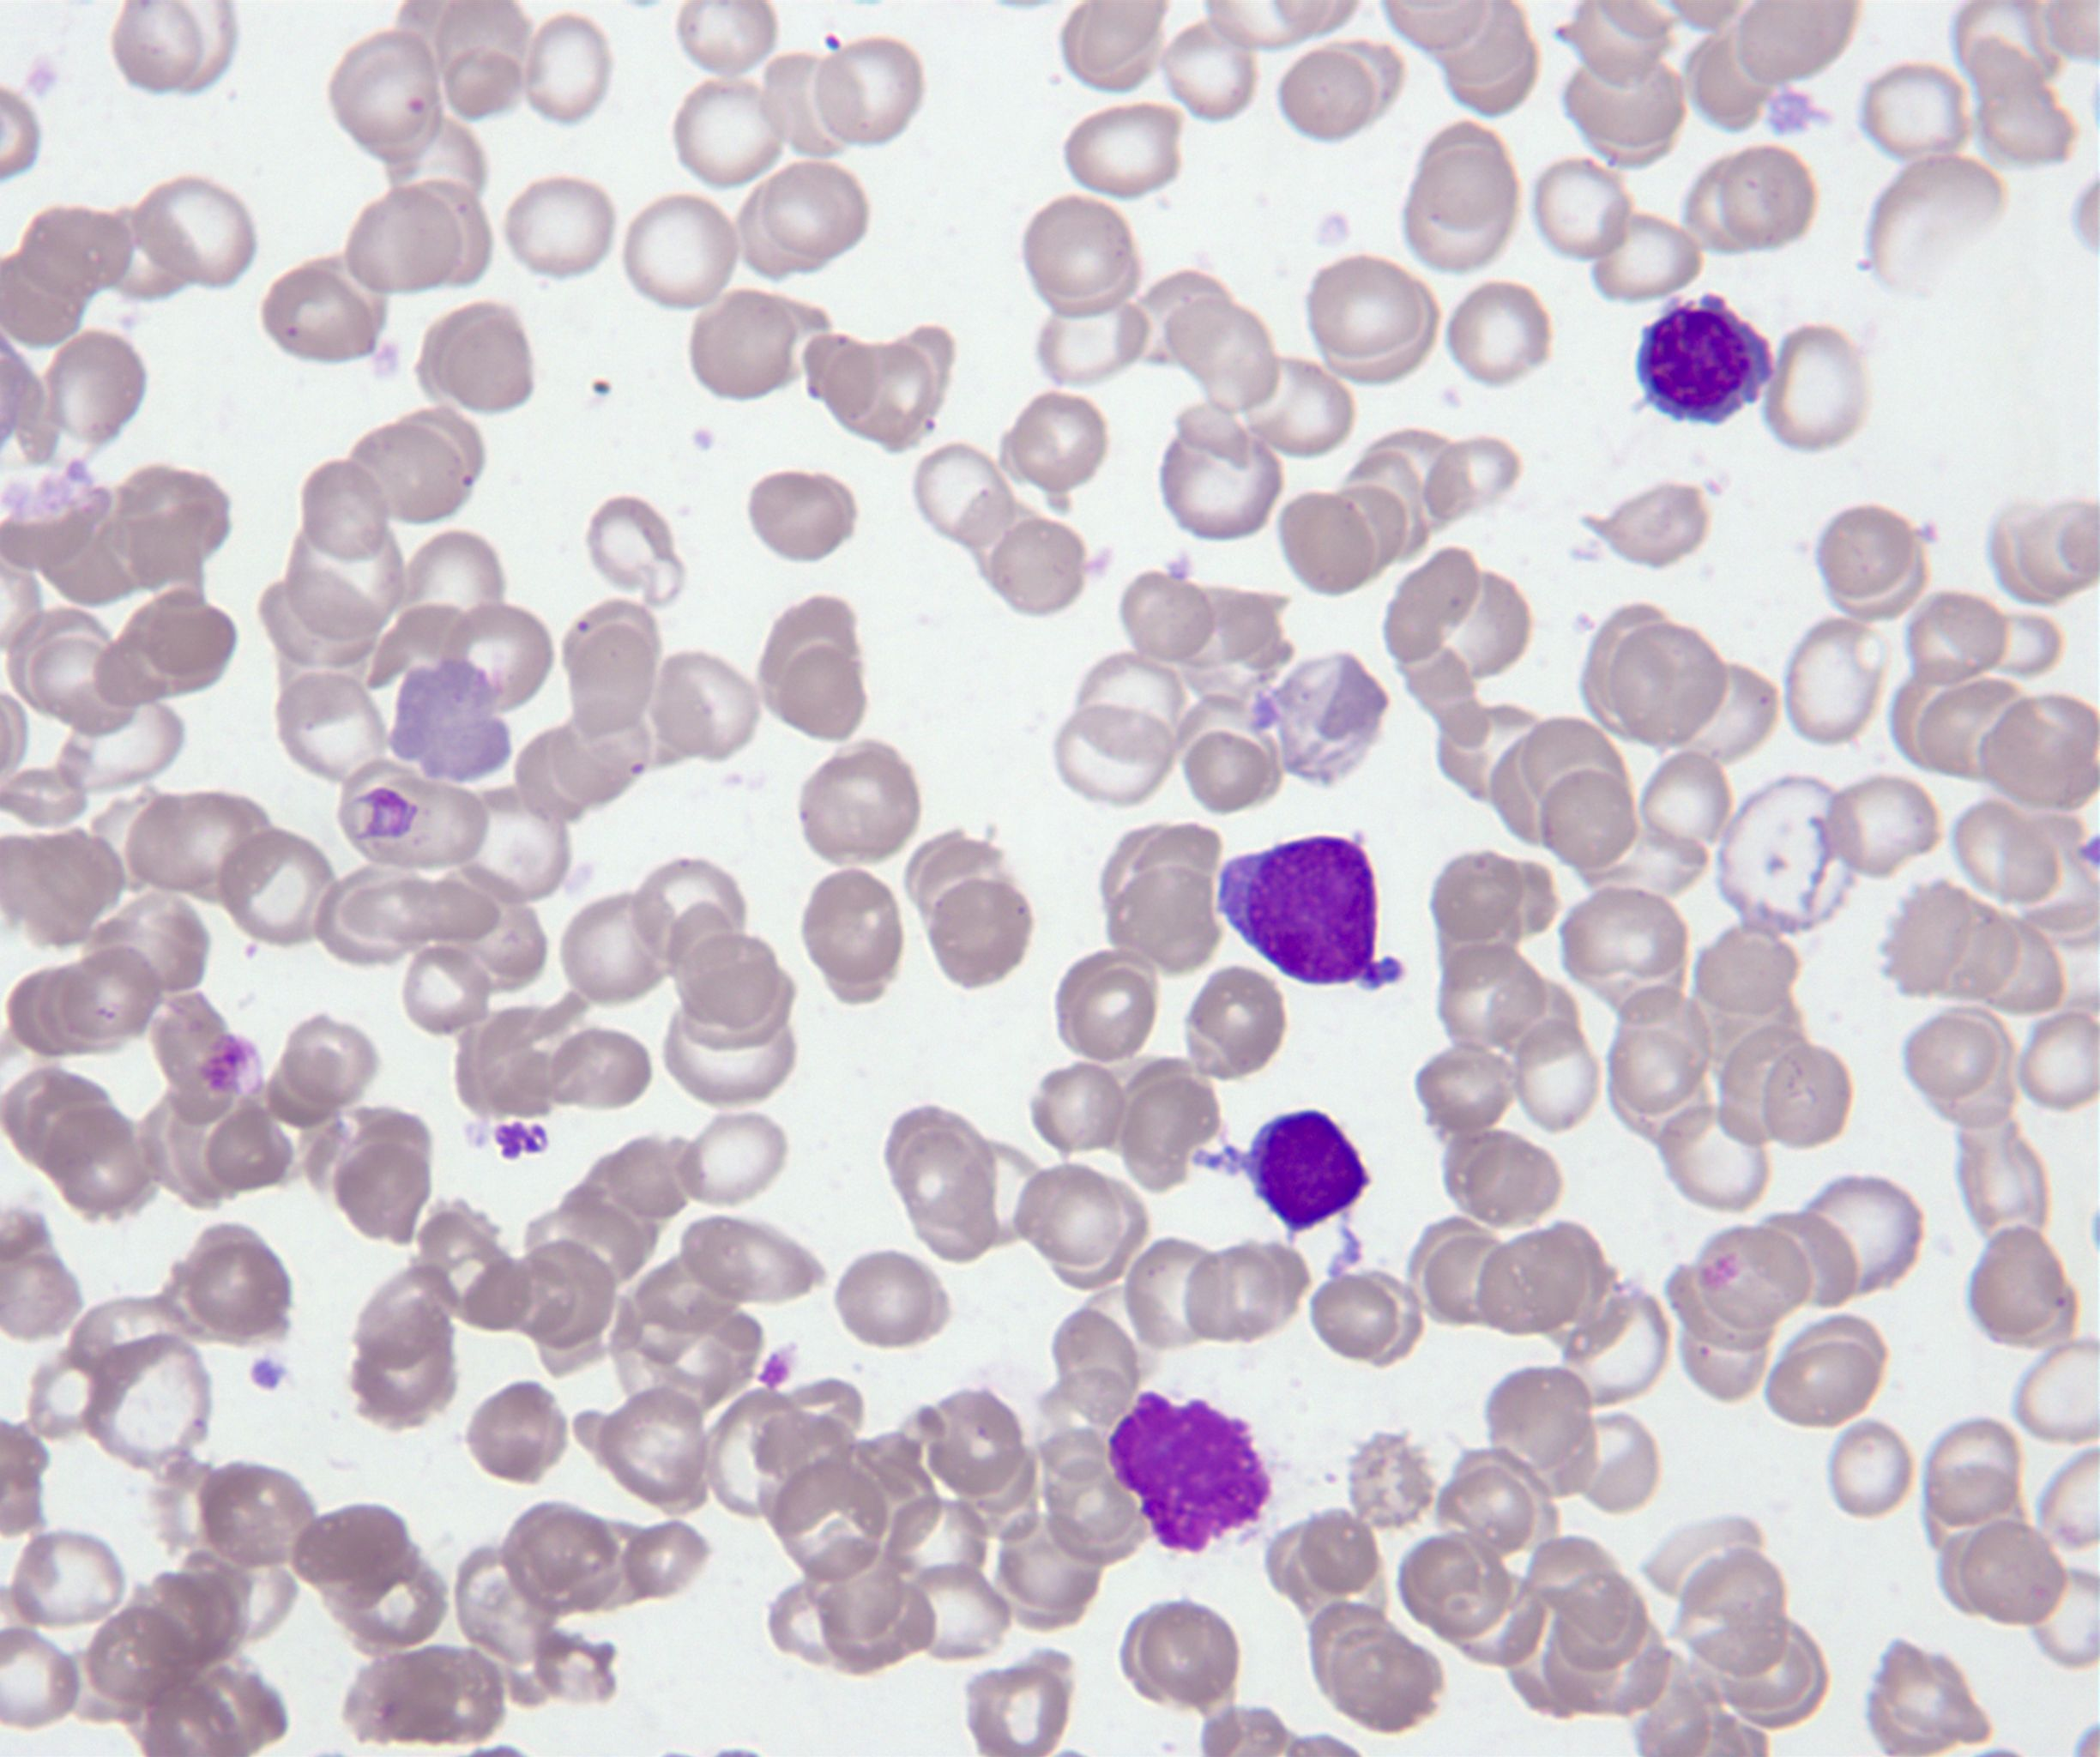24: (1636, 295, 1774, 426)
32: (1219, 836, 1402, 988), (1193, 1111, 1367, 1230)
x: (1109, 1394, 1270, 1551)
